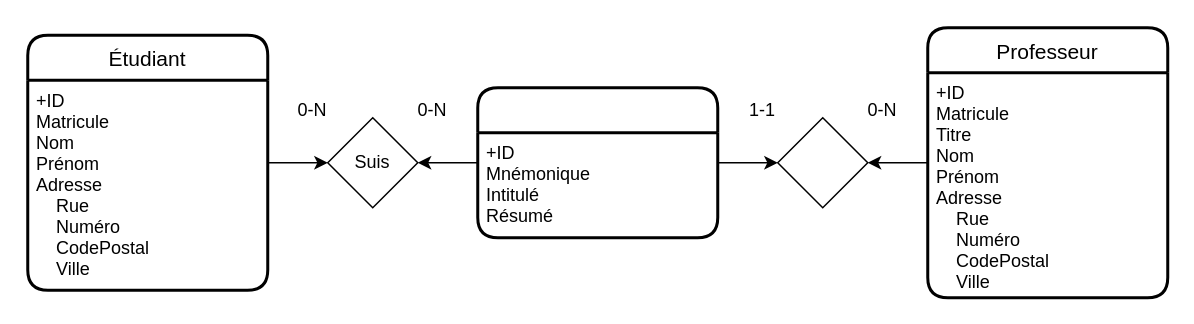
The diagram is 1194 pixels wide and 324 high, and some of its shapes have lost their labels. The shapes that lost their labels are listed below. From the top down, each one's box as (x1, y1, x2, y2) in pixels, then its label:
(476, 86, 718, 238): Cours
(776, 116, 868, 208): Fait
